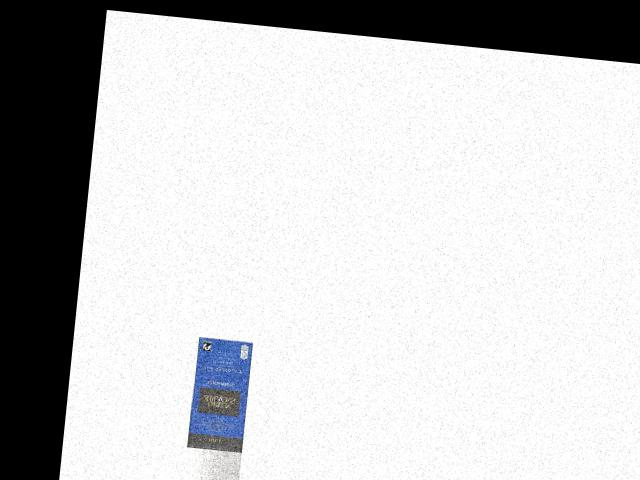chocolate: (186, 338, 254, 452)
